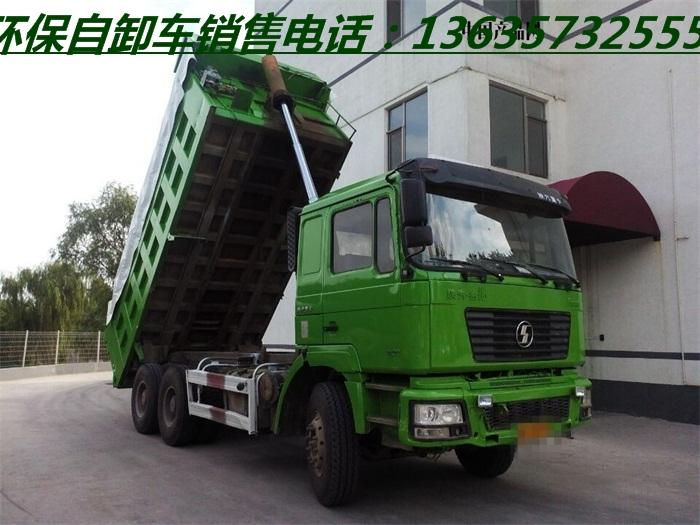truck: (64, 17, 606, 499)
